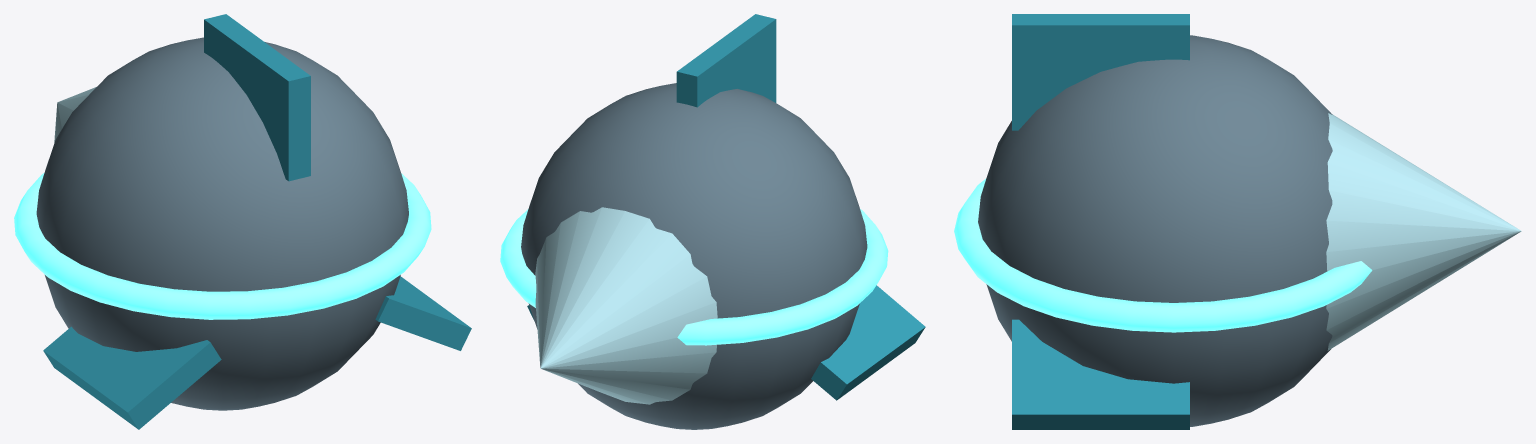
The model's file is pierce.glb.
The picture shows the model from 3 angles, left to right: view 1: azimuth 30°, elevation 25°; view 2: azimuth 150°, elevation 25°; view 3: azimuth 270°, elevation 25°; orthographic projection. The views are drawn at different scales.
Parts seen in each view (by area): view 1: ball-pierce; view 2: ball-pierce; view 3: ball-pierce.
Boxes of the visible parts, x1,y1,x2,y2 form: ball-pierce: (14,14,471,429); ball-pierce: (500,14,925,429); ball-pierce: (954,14,1521,429).
Bounding box in the file's own units: 1.63 × 1.6 × 2.11.
